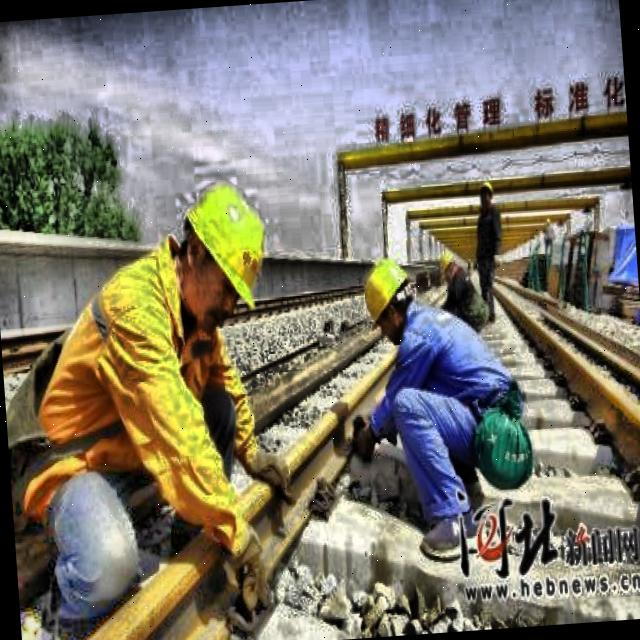helmet: (162, 160, 290, 337), (354, 250, 419, 344), (437, 248, 460, 286), (477, 176, 498, 212)
